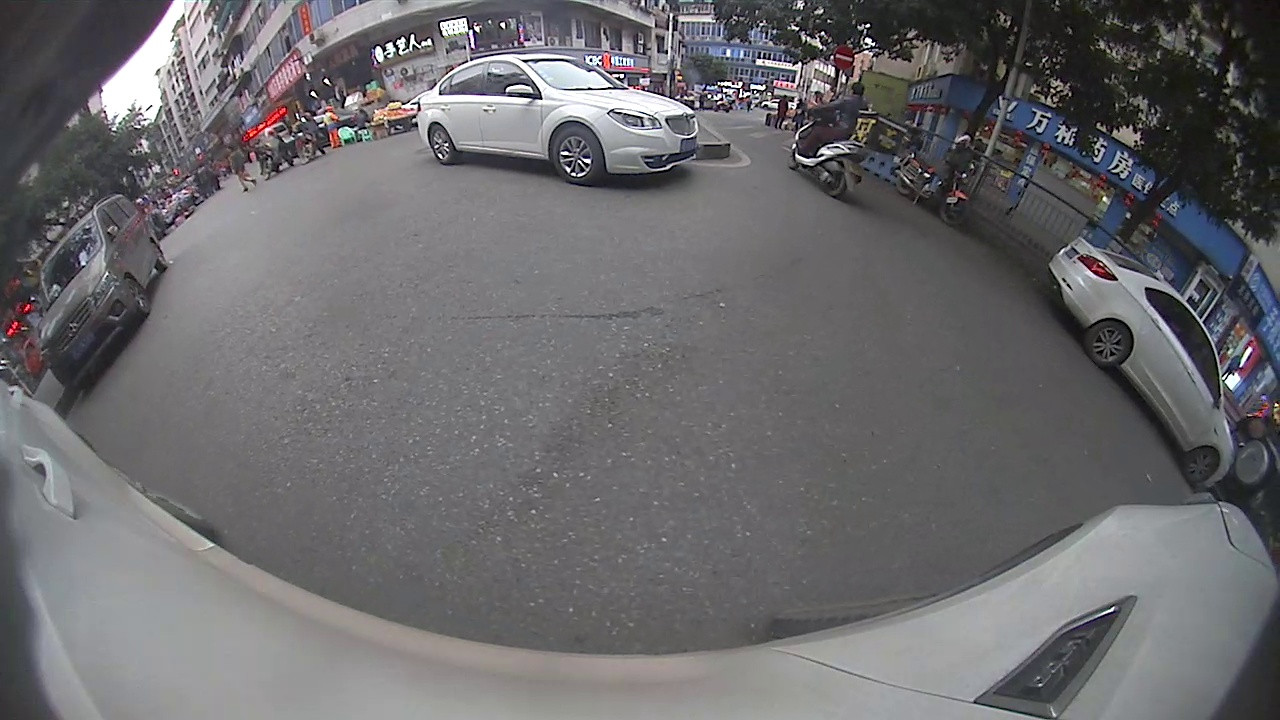car: (1048, 234, 1238, 497), (415, 50, 701, 190), (35, 192, 168, 391)
front: (548, 121, 602, 184), (1182, 448, 1225, 484), (121, 280, 154, 314), (941, 193, 971, 227)
rear: (1082, 314, 1134, 367), (425, 123, 454, 165), (149, 240, 171, 274), (891, 171, 917, 198), (824, 170, 847, 197)
rider: (787, 79, 875, 199), (893, 152, 974, 227)
